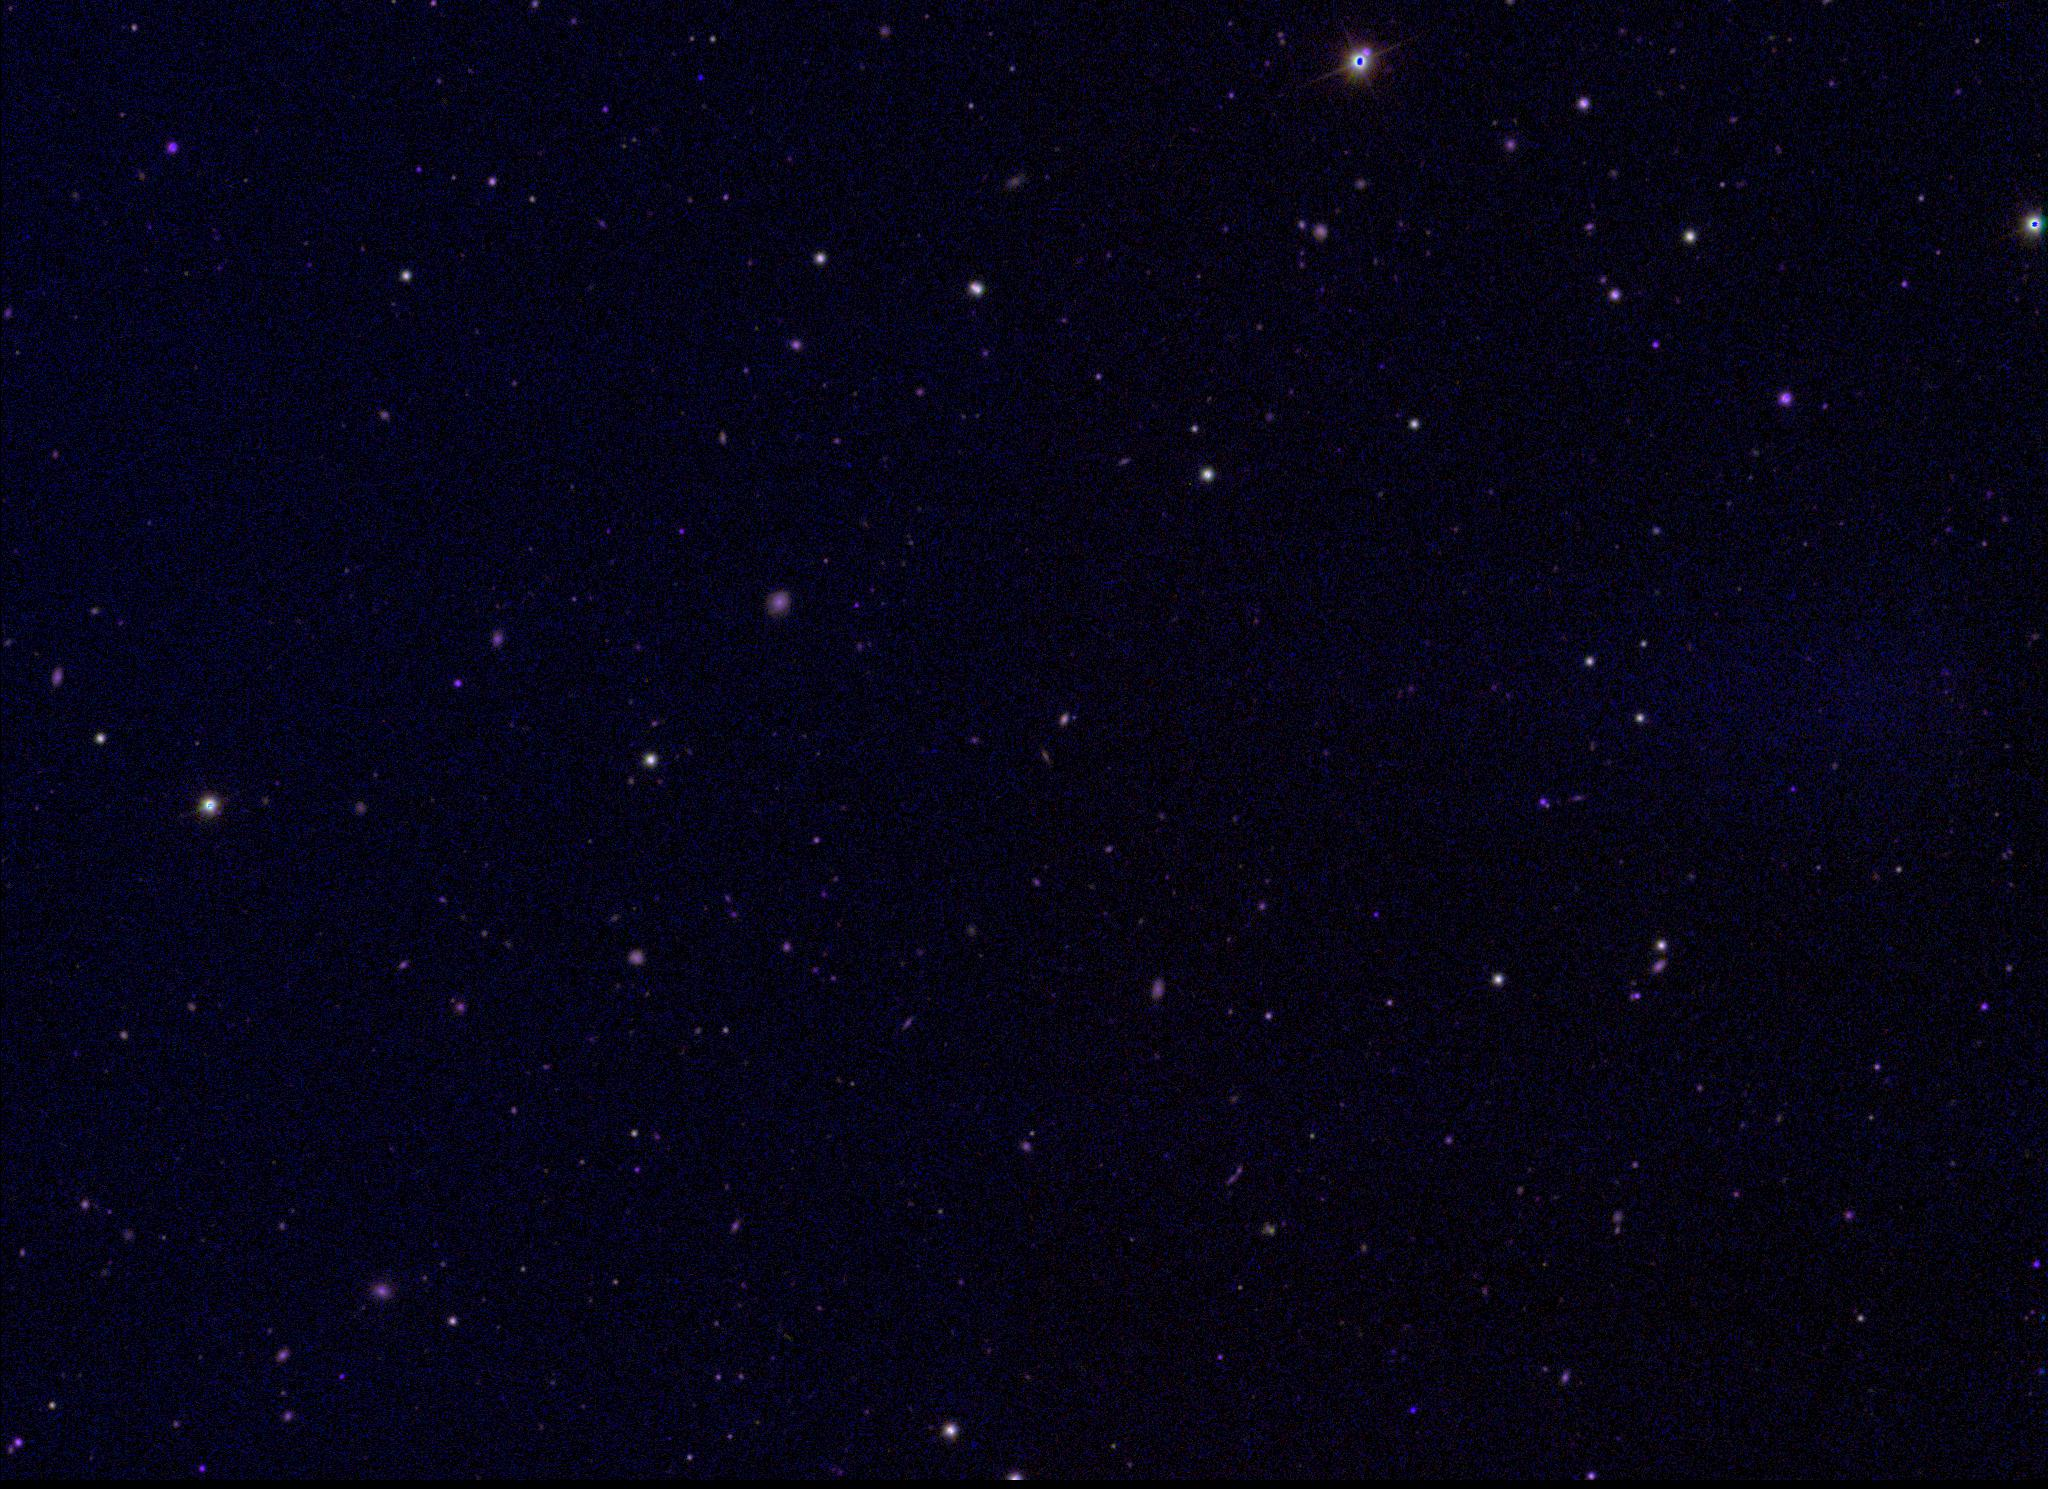L: (692, 68, 706, 83)
